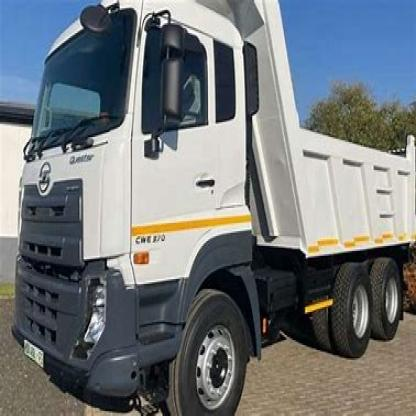dump_truck: (0, 3, 415, 414)
